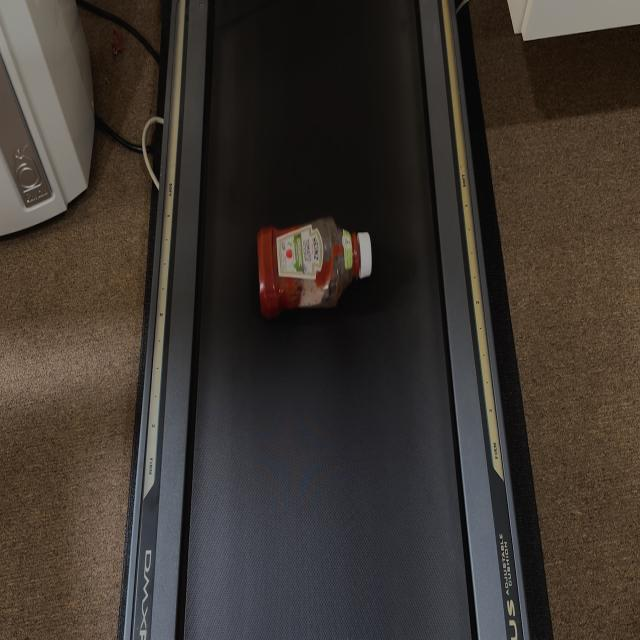Trash: (251, 214, 378, 310)
